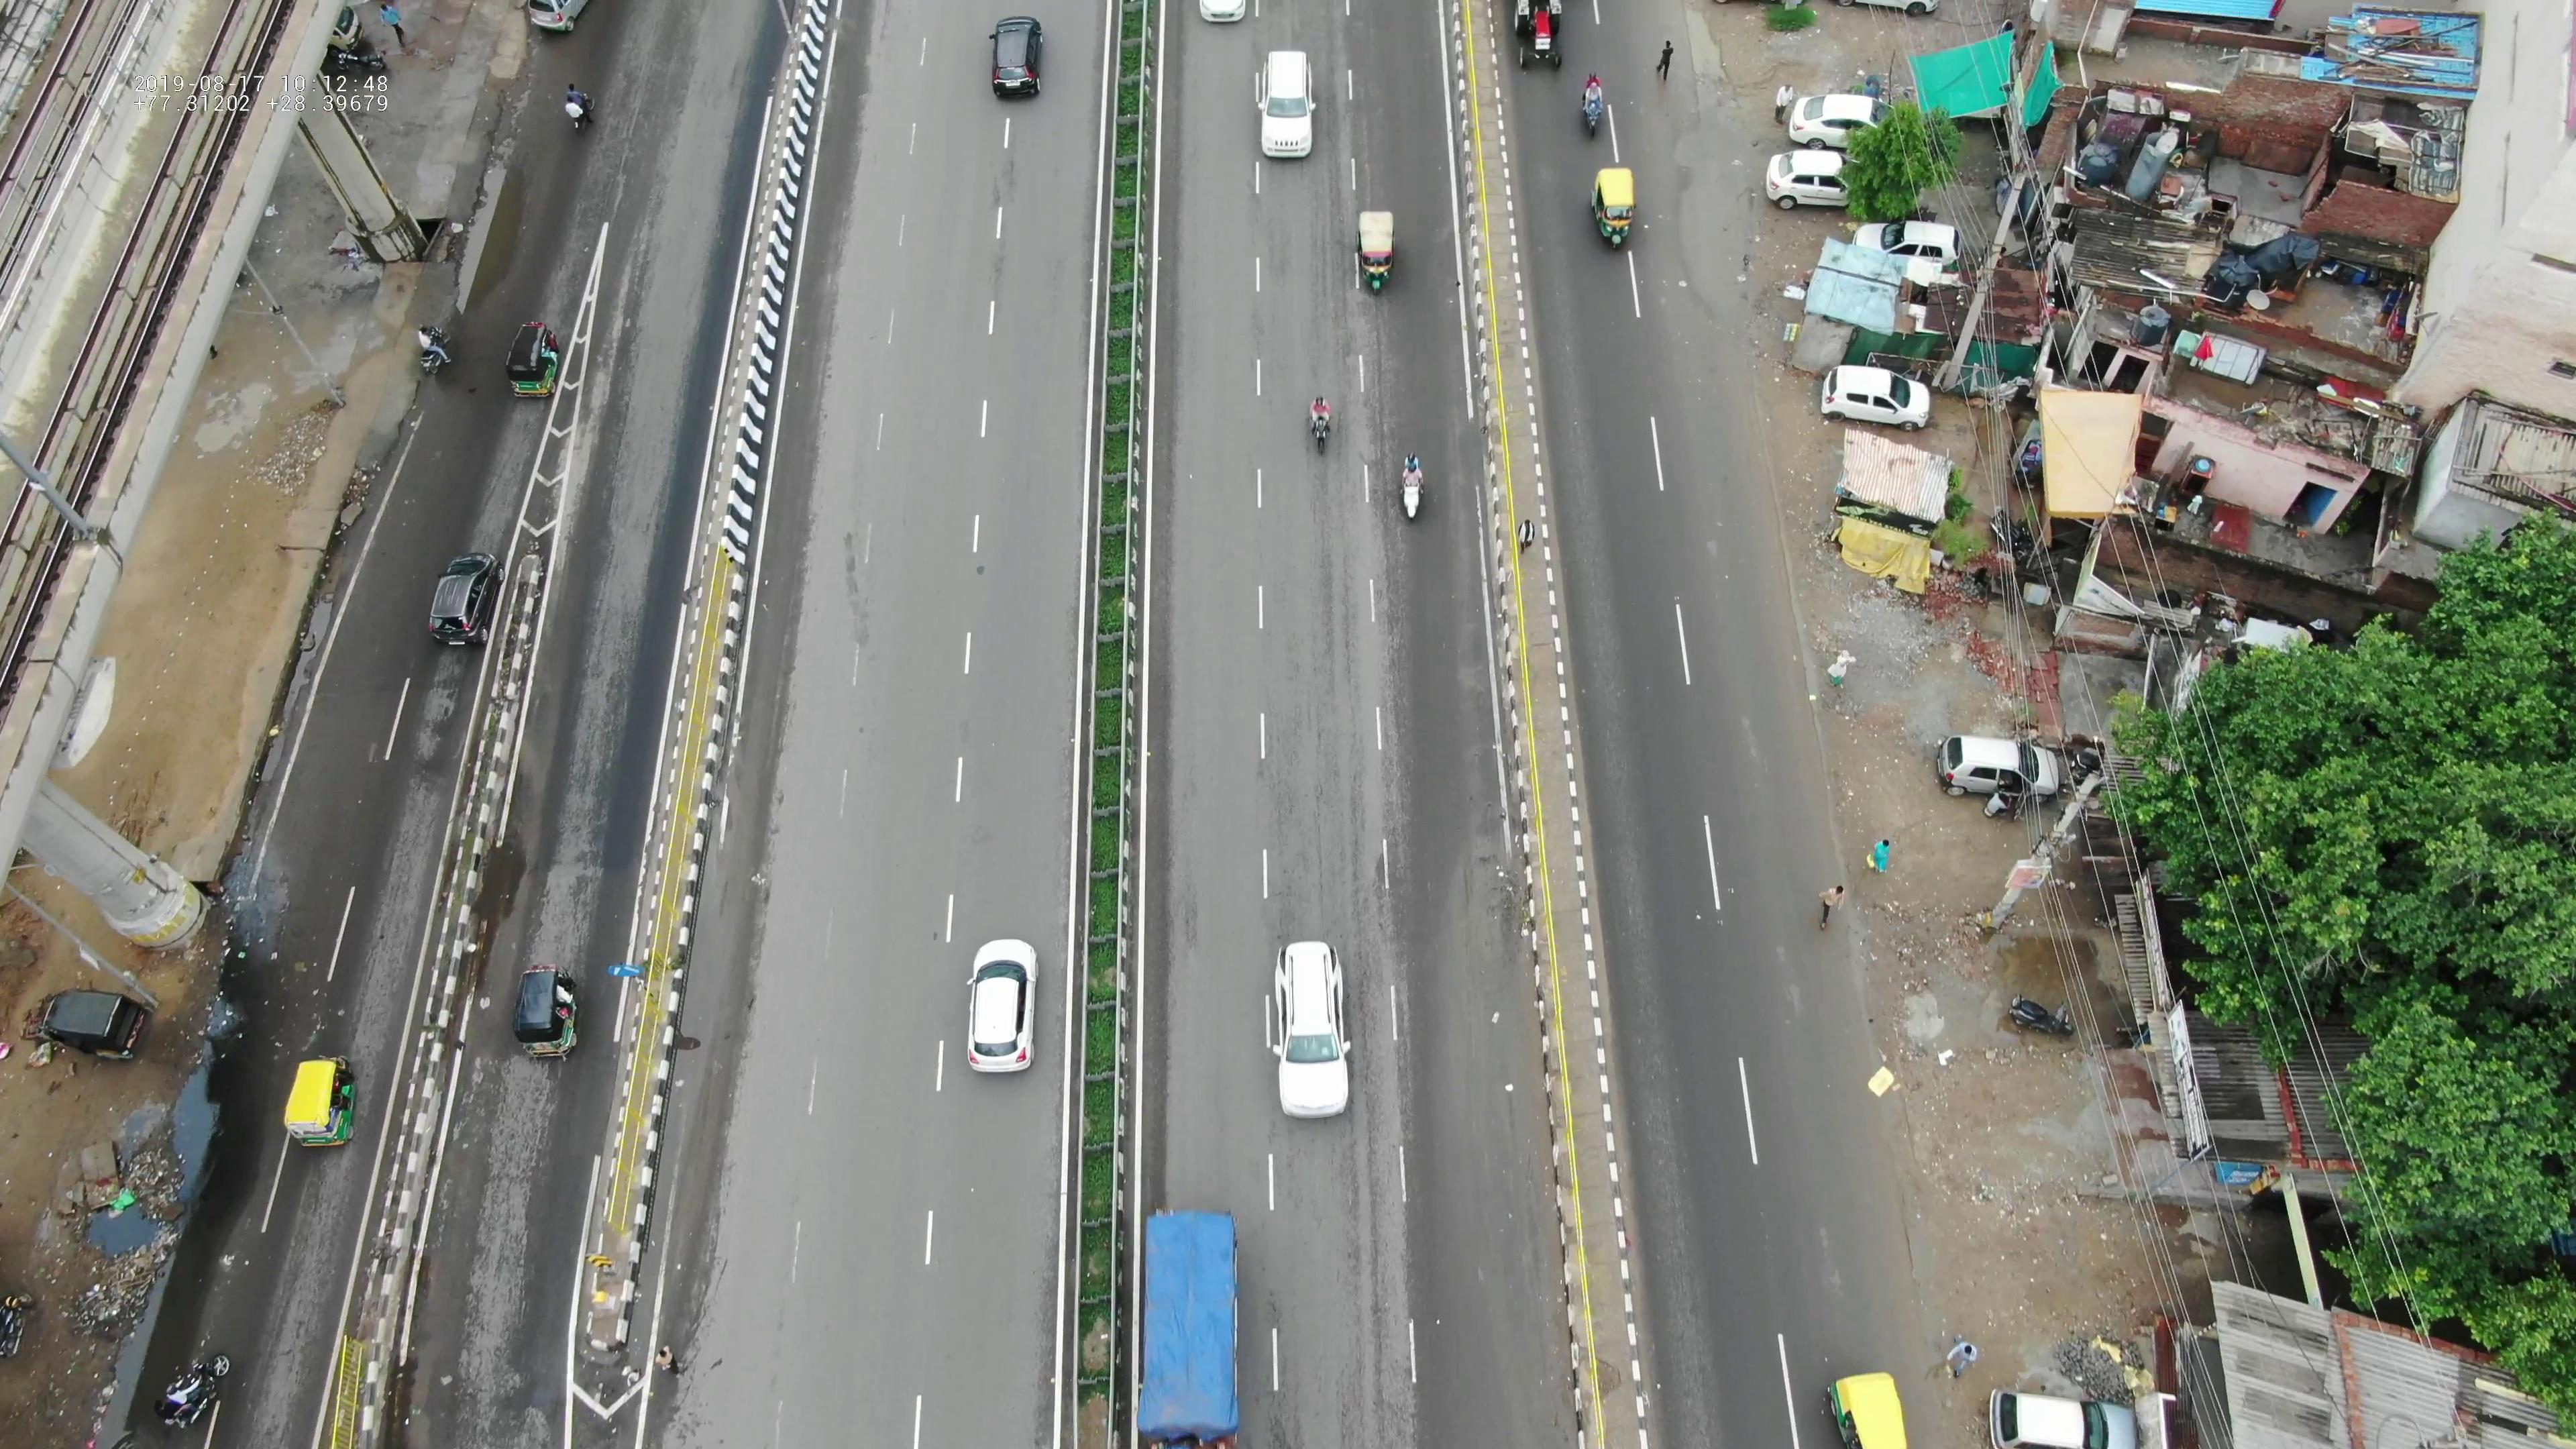Waterlogging: (1654, 99, 1752, 313)
